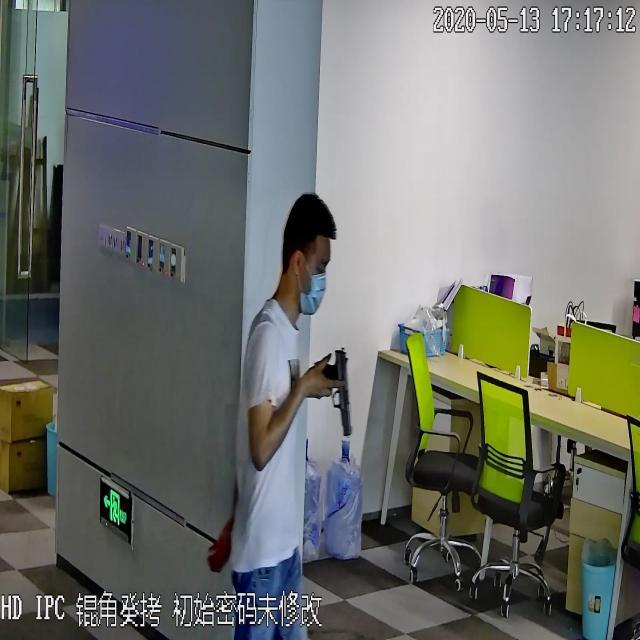gun: (297, 337, 355, 432)
